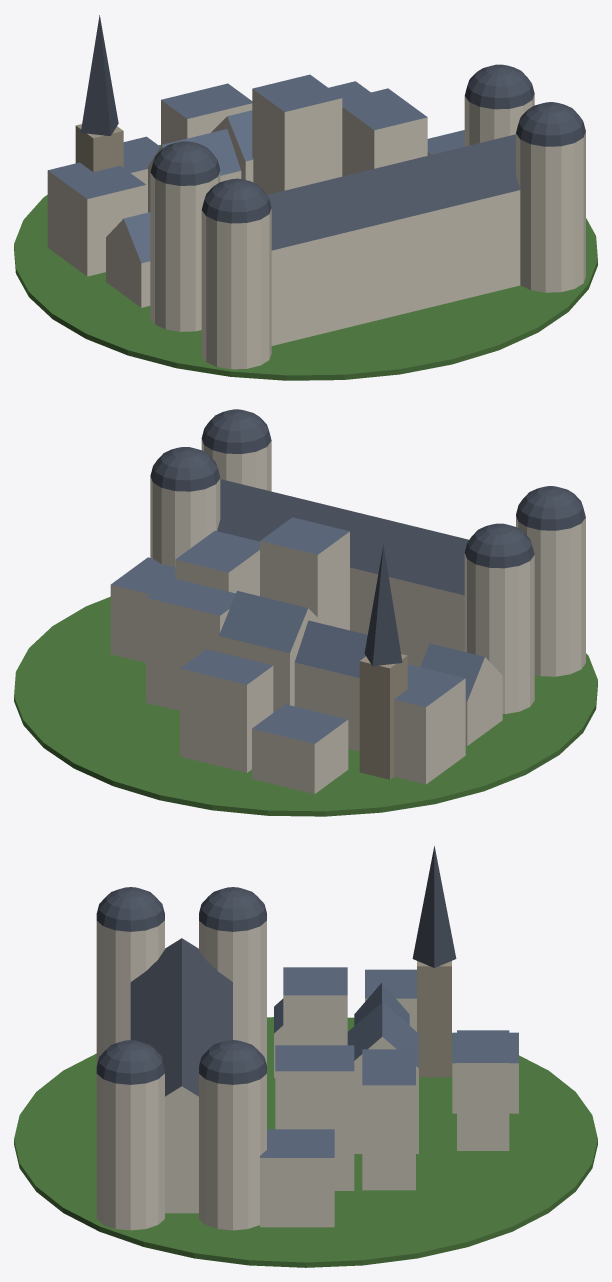
The model's file is kilkenny.glb.
3 renders of one model, top to bottom at view 1: azimuth 30°, elevation 25°; view 2: azimuth 150°, elevation 25°; view 3: azimuth 270°, elevation 25°, orthographic.
Size of the model in its own units: 2 by 0.87 by 2.
